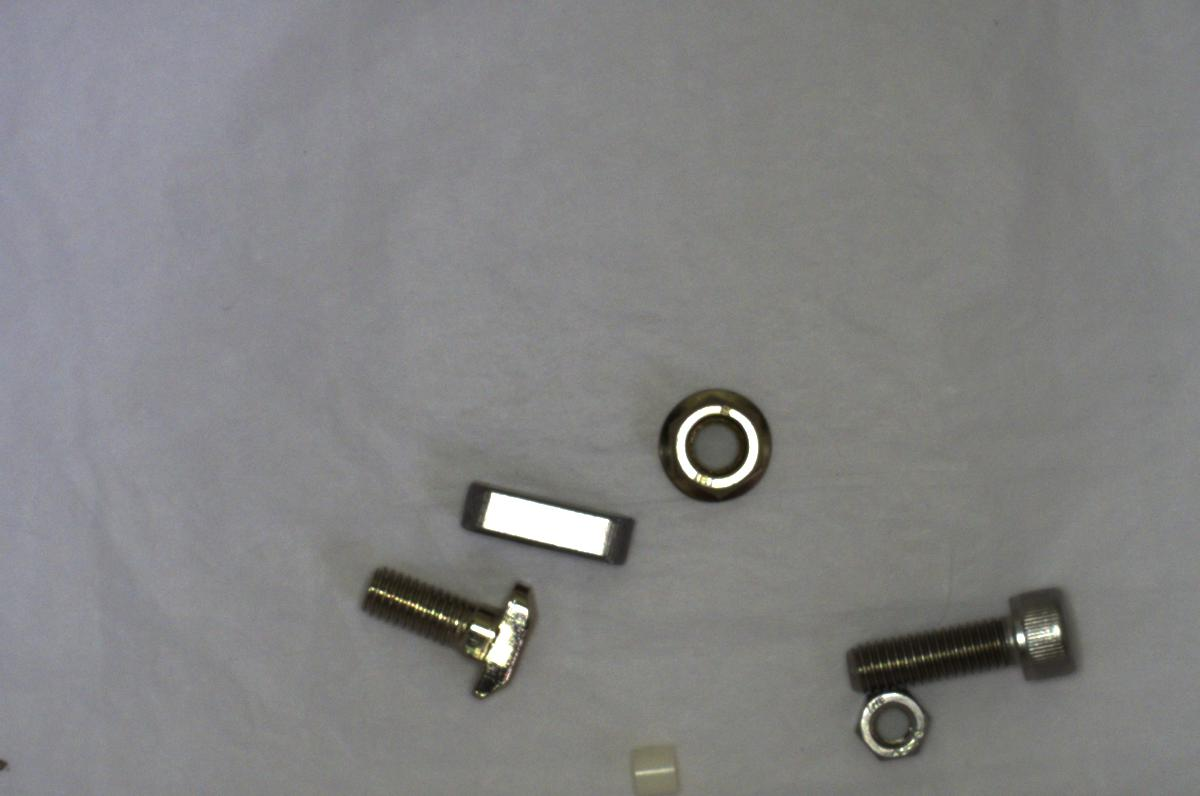Flange nut: (646, 381, 780, 514)
Hexagon nut: (839, 683, 934, 761)
Hexagon screw: (831, 575, 1088, 705)
Keybar: (430, 472, 651, 573)
Plastic cushion pillar: (621, 735, 697, 792)
T-shaped screw: (355, 565, 552, 709)
